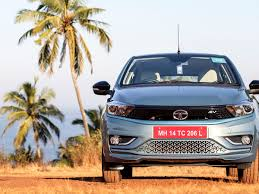Tiago: (92, 50, 259, 186)
